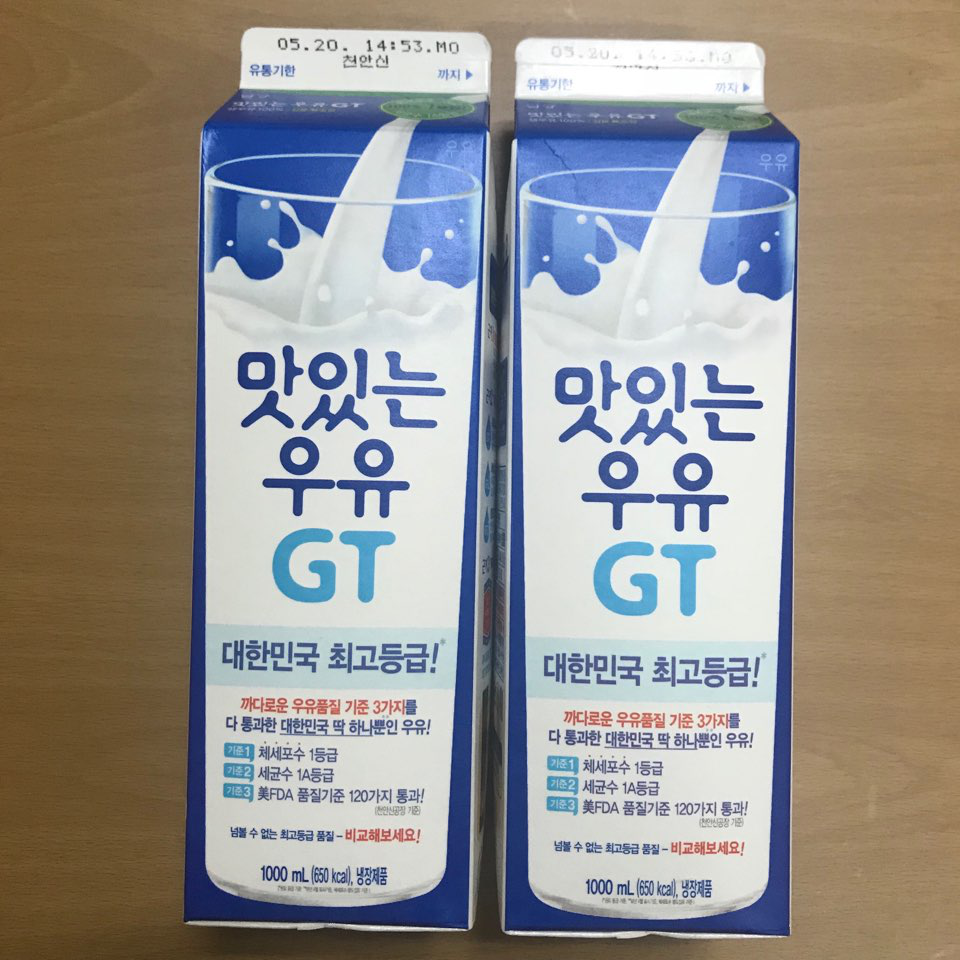milk: (196, 29, 796, 946)
